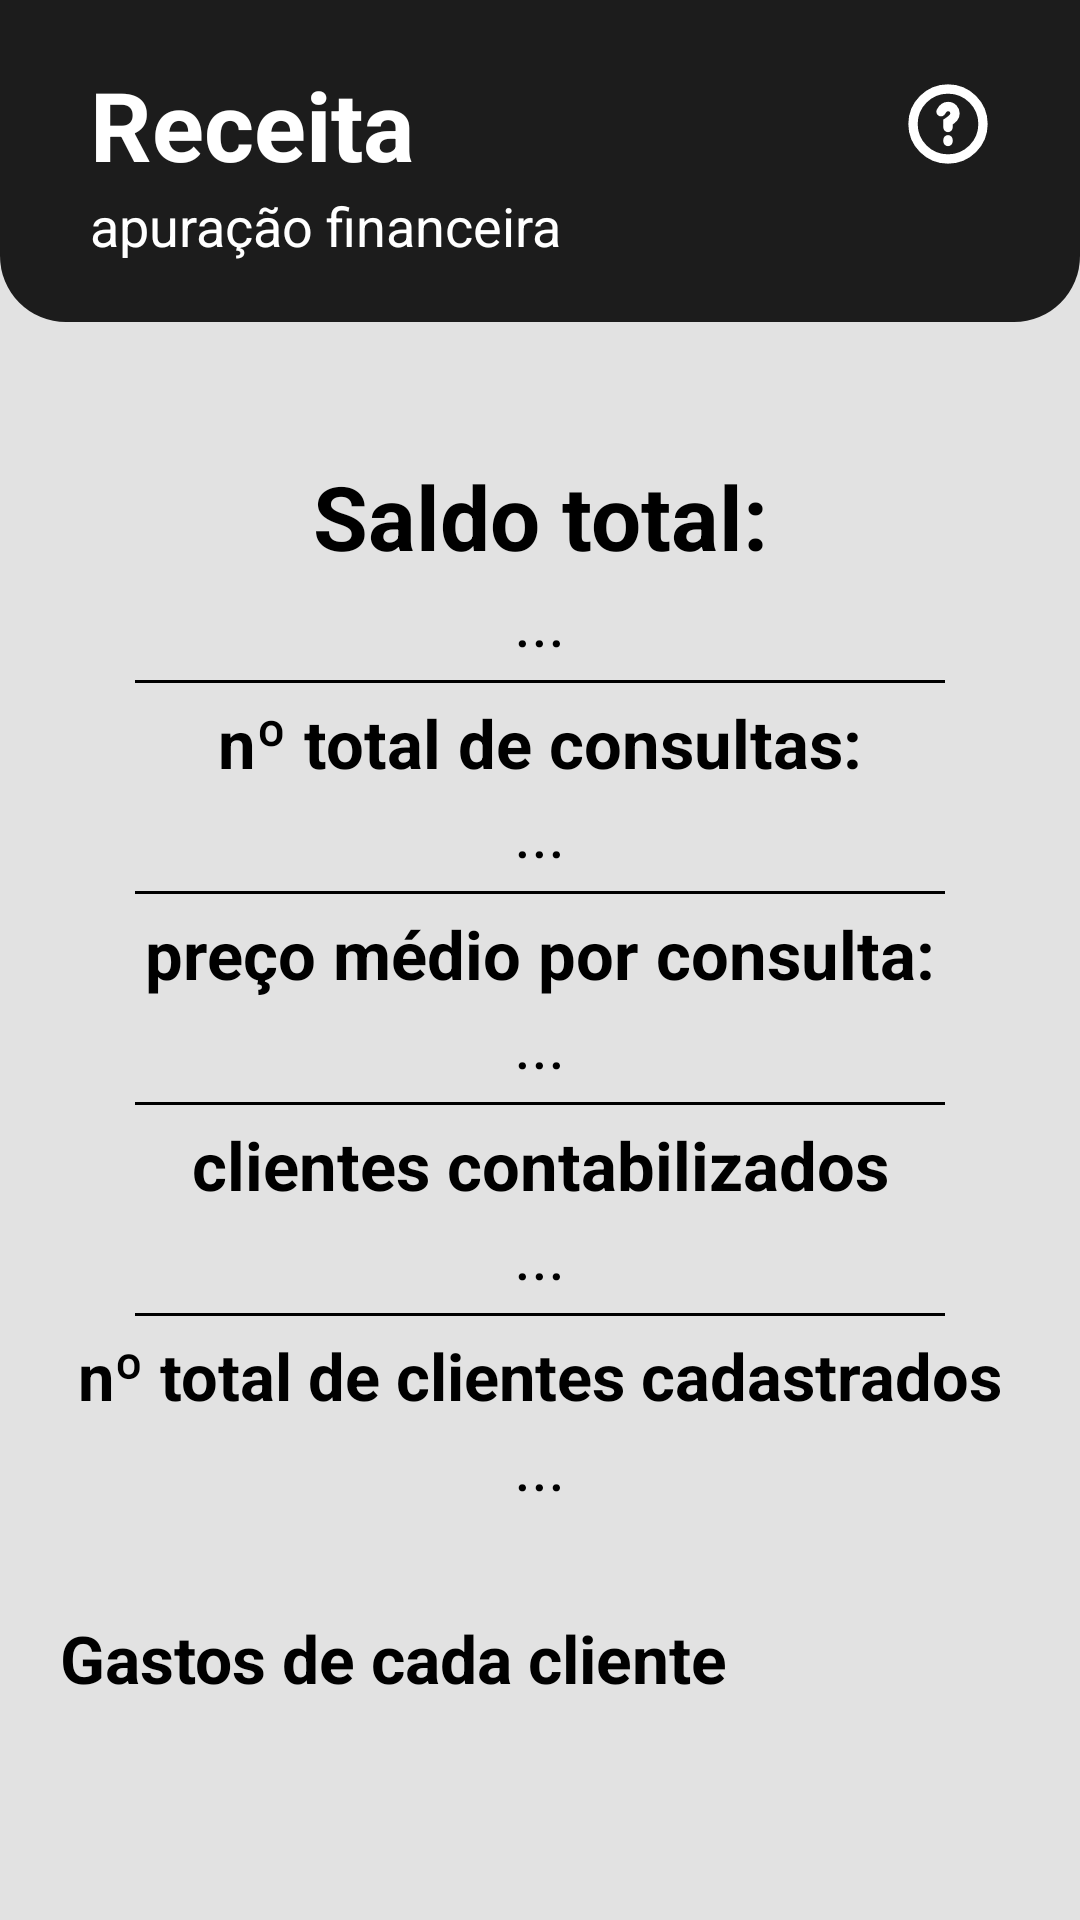

Where icons sit on this 1080x1920 app screen, as {"left": x1, "top": y1, "right": x2, "bottom": y2}:
interrogacao: {"left": 908, "top": 84, "right": 988, "bottom": 164}
